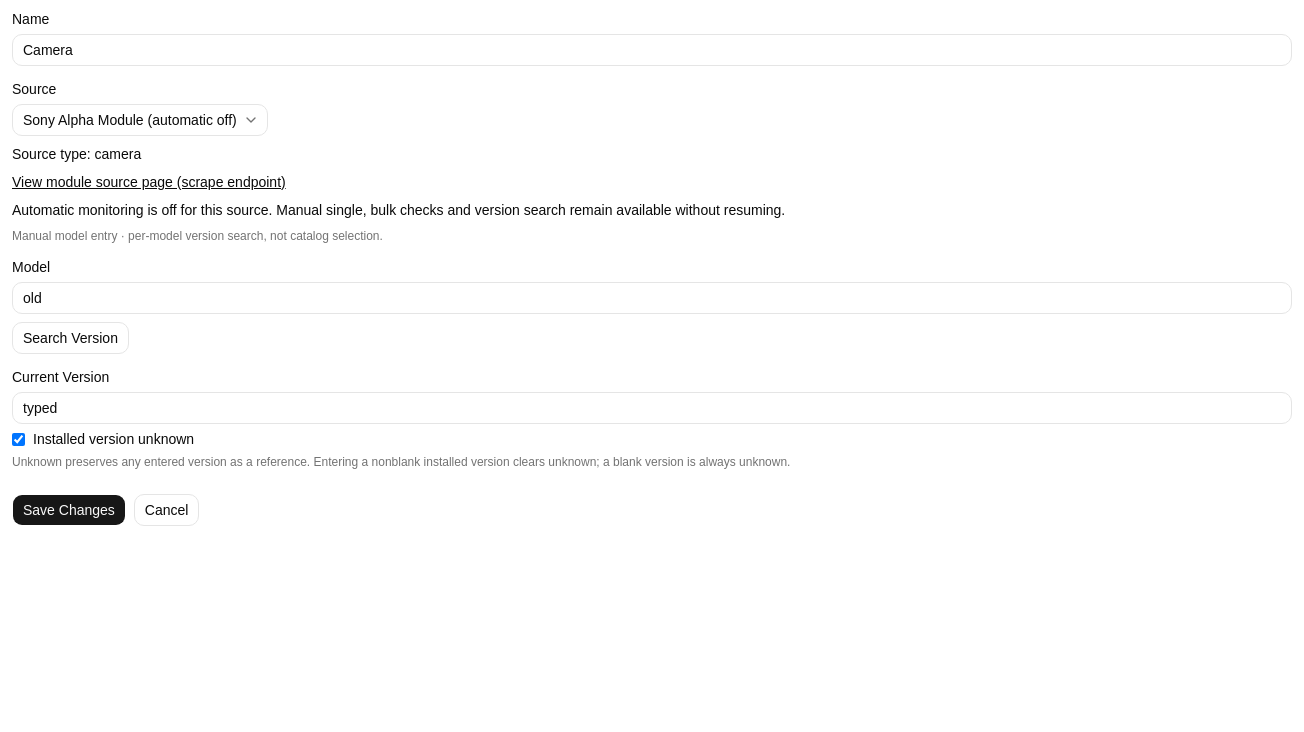
Test case: DeviceForm › rejects empty search result  without changing installed state
The width and height of the screenshot is (1304, 732).
Click the button "Search Version".
click(70, 338)  # box [12,322,129,354]
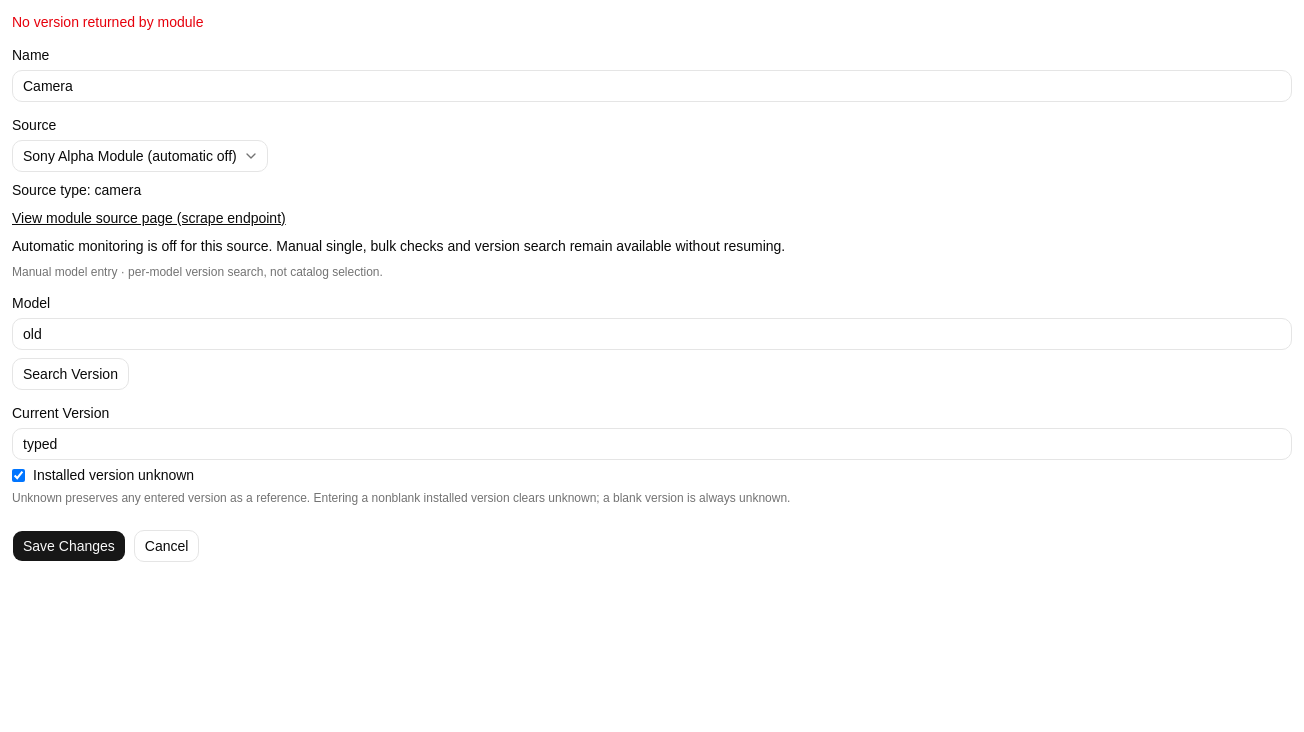
expect the field labelled "Current Version" holds "typed": met, box [12,428,1292,460]
expect the message "No version returned by module" is shown: met, box [12,14,203,30]
